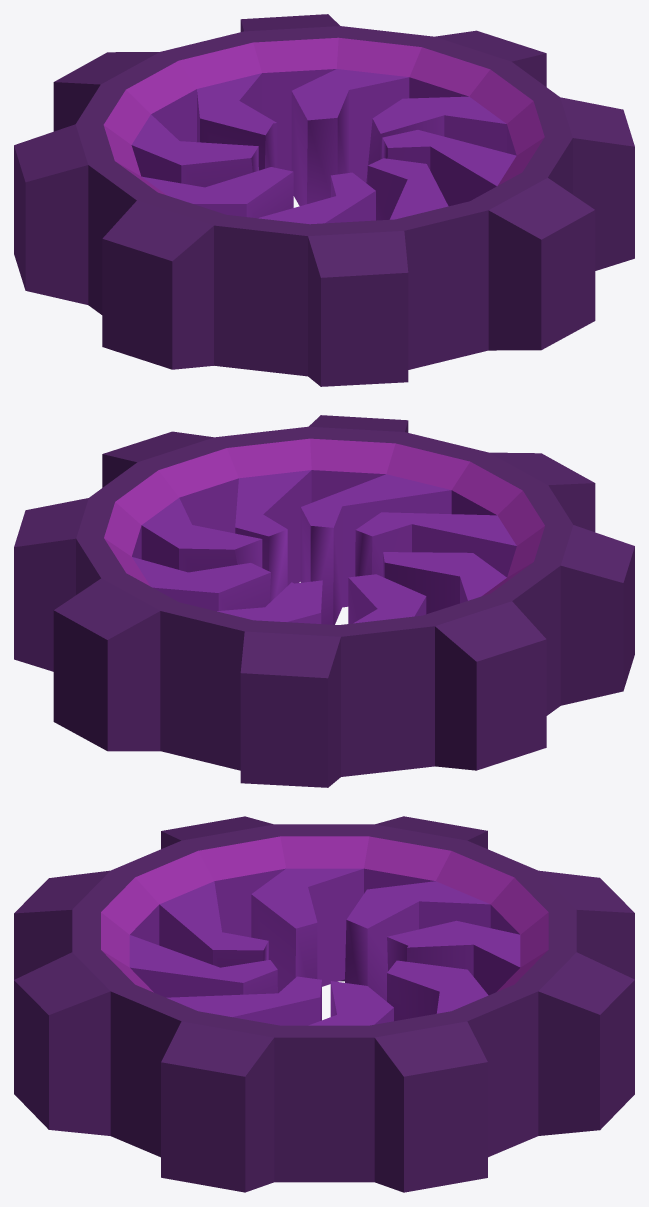
The model's file is obj_gear03_hard.gltf.
3 renders of one model, top to bottom at view 1: azimuth 30°, elevation 25°; view 2: azimuth 150°, elevation 25°; view 3: azimuth 270°, elevation 25°, orthographic. The views are drawn at different scales.
Visible parts, largest first — view 1: obj_gear03_hard; view 2: obj_gear03_hard; view 3: obj_gear03_hard.
Part boxes in pixels (x1=…): obj_gear03_hard: x1=14, y1=14, x2=634, y2=386; obj_gear03_hard: x1=14, y1=415, x2=634, y2=787; obj_gear03_hard: x1=14, y1=816, x2=634, y2=1192.
Size of what is drawn, in the model's own units: 0.2914 by 0.0749 by 0.2914.
1 material, 1 textured.
